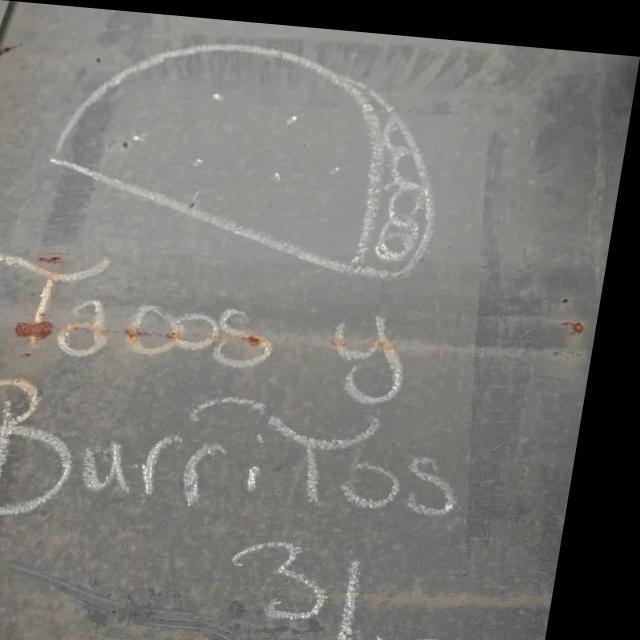-: (0, 216, 530, 554), (34, 5, 486, 283), (219, 506, 565, 640)
